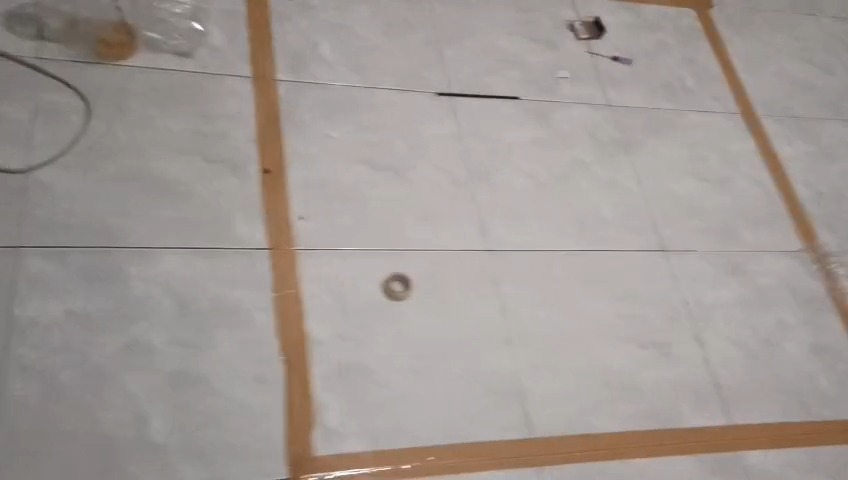floor marking: (247, 0, 847, 479), (625, 0, 847, 331)
